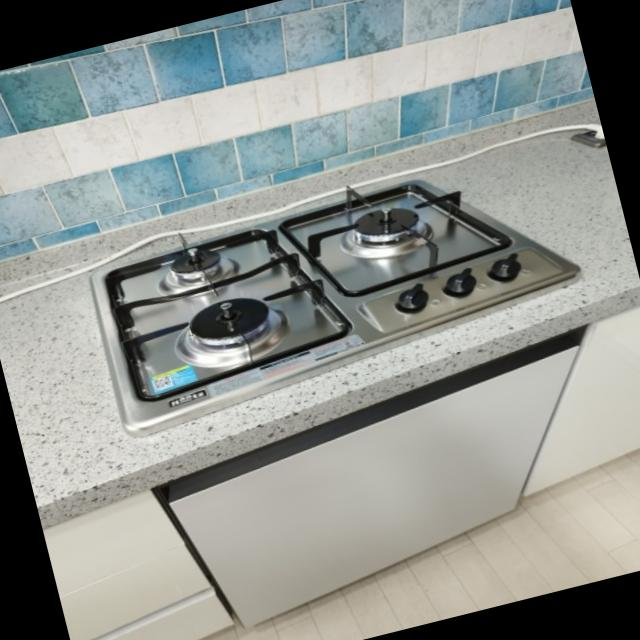knob_OFF: (308, 180, 493, 282), (148, 291, 346, 366), (123, 233, 271, 277)
